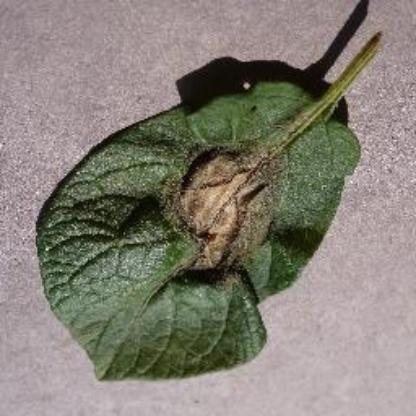Late-Blight: (40, 26, 390, 385)
